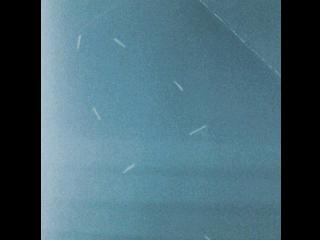crack: (199, 0, 282, 77)
scratch: (185, 118, 210, 142), (87, 103, 108, 126), (69, 30, 88, 55), (109, 31, 129, 53), (169, 76, 189, 98), (118, 161, 139, 178), (201, 231, 213, 240)
